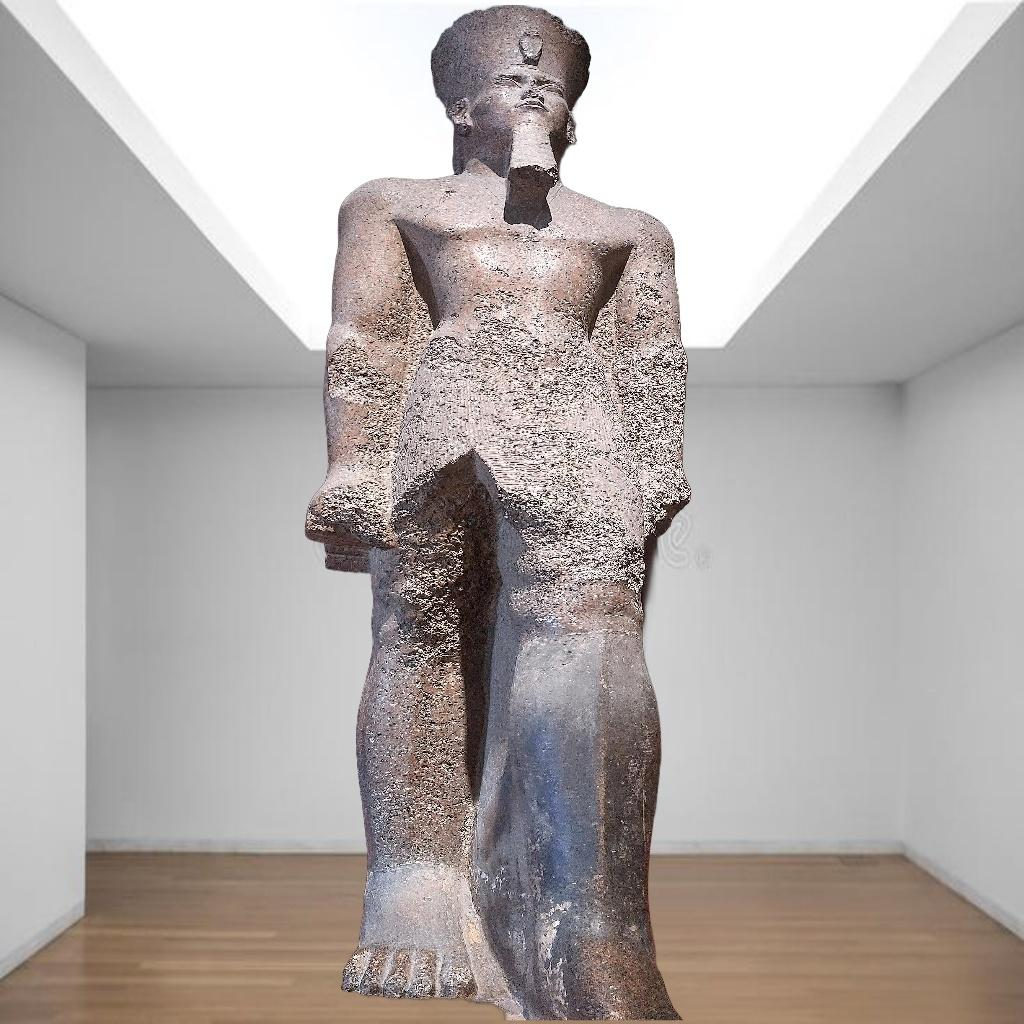Senwosret III: (302, 6, 696, 1020)
